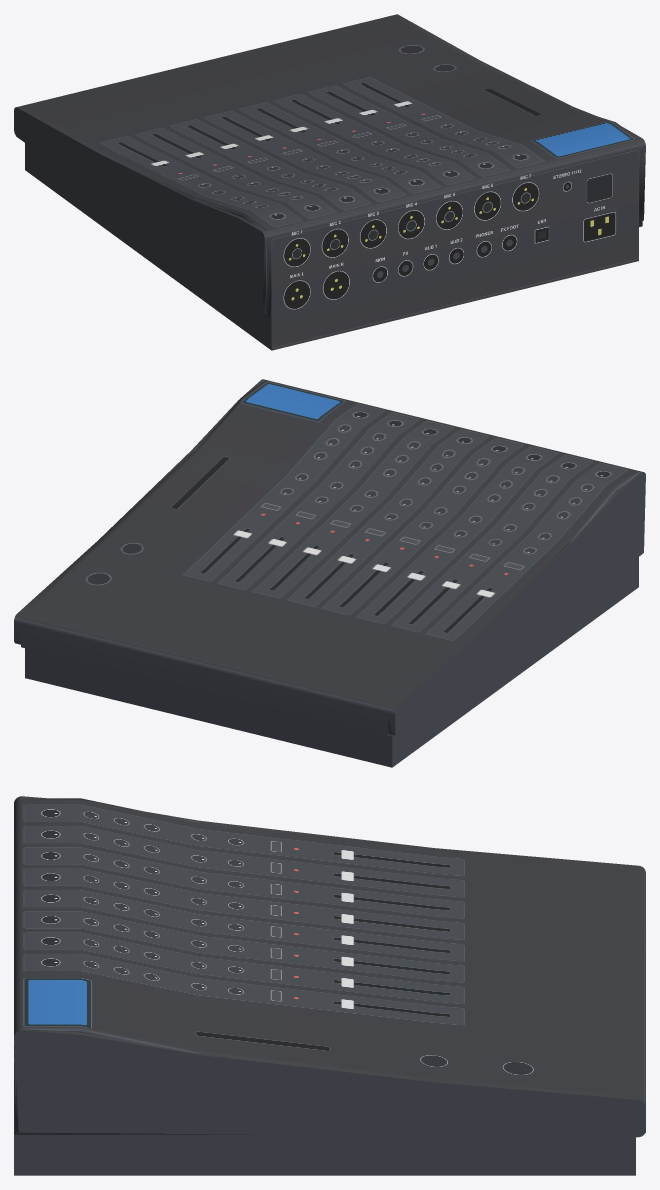
File: mackie-profx12v3.glb
3 views of the same model, one above another, from view 1: azimuth 30°, elevation 25°; view 2: azimuth 150°, elevation 25°; view 3: azimuth 270°, elevation 25° (orthographic). The views are drawn at different scales.
Parts seen in each view (by area): view 1: mackie-profx12v3-body; view 2: mackie-profx12v3-body; view 3: mackie-profx12v3-body.
Boxes of the visible parts, left/top/right/bottom form: mackie-profx12v3-body: left=14, top=14, right=645, bottom=350; mackie-profx12v3-body: left=14, top=379, right=645, bottom=767; mackie-profx12v3-body: left=14, top=796, right=645, bottom=1175.
Size of the model in its own units: 0.33 by 0.102 by 0.376.
1 material, 1 textured.
